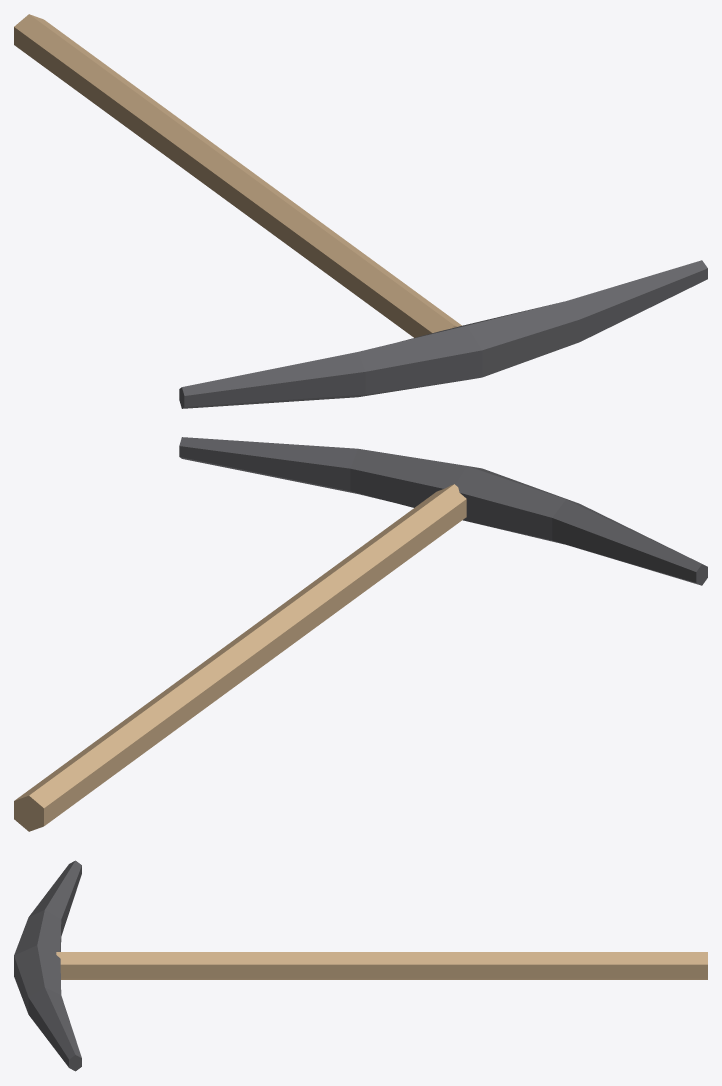
File: SM_Pickaxe.glb
3 views of the same model, one above another, from view 1: azimuth 30°, elevation 25°; view 2: azimuth 150°, elevation 25°; view 3: azimuth 270°, elevation 25° (orthographic). The views are drawn at different scales.
Parts seen in each view (by area): view 1: SM_Pickaxe; view 2: SM_Pickaxe; view 3: SM_Pickaxe.
Boxes of the visible parts, x1=… form: SM_Pickaxe: x1=14, y1=14, x2=707, y2=408; SM_Pickaxe: x1=14, y1=437, x2=707, y2=831; SM_Pickaxe: x1=14, y1=860, x2=707, y2=1071.
Bounding box in the file's own units: 0.6038 × 0.06 × 0.9053.
